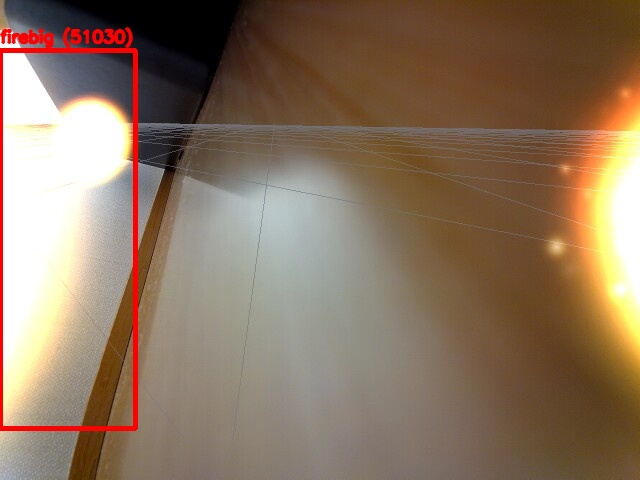firebig: (0, 50, 135, 428)
